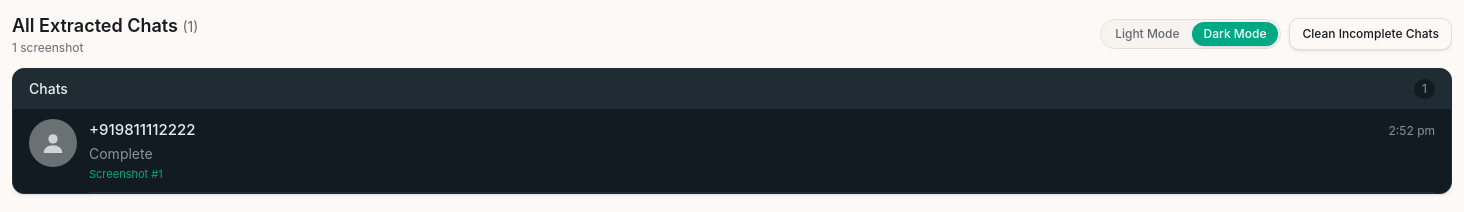
Test: AllExtractedChats › reports that the list is already clean when no observations are incomplete
Expected: the button with aria-label "Open +919811112222 in screenshot #1" is shown, [89, 119, 1435, 164]
Click the button "Clean Incomplete Chats": (1371, 34) [1290, 18, 1452, 50]
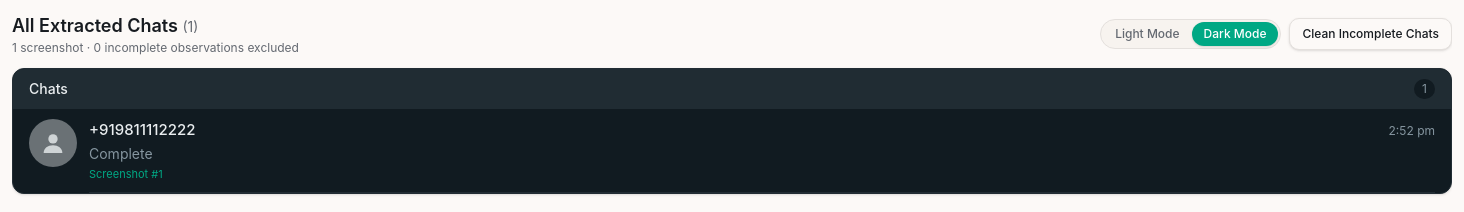
Expected: the text "1 screenshot · 0 incomplete observations excluded" is shown, [12, 40, 299, 56]
